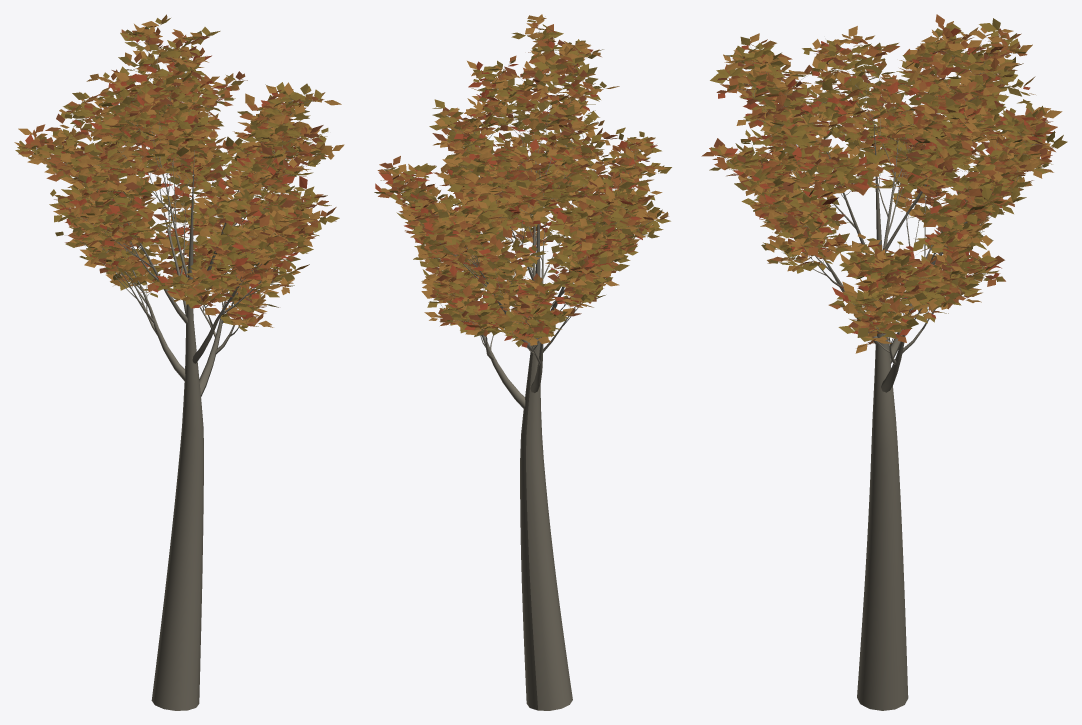
File: autumntree_02.glb
The picture shows the model from 3 angles, left to right: view 1: azimuth 30°, elevation 25°; view 2: azimuth 150°, elevation 25°; view 3: azimuth 270°, elevation 25°; orthographic projection. The views are drawn at different scales.
Visible parts, largest first — view 1: AutumnTree_02_leaf_clusters, AutumnTree_02_trunk_branches; view 2: AutumnTree_02_leaf_clusters, AutumnTree_02_trunk_branches; view 3: AutumnTree_02_leaf_clusters, AutumnTree_02_trunk_branches.
Boxes of the visible parts, x1=… form: AutumnTree_02_leaf_clusters: x1=14, y1=14, x2=344, y2=331; AutumnTree_02_trunk_branches: x1=27, y1=26, x2=325, y2=710; AutumnTree_02_leaf_clusters: x1=374, y1=14, x2=671, y2=347; AutumnTree_02_trunk_branches: x1=387, y1=26, x2=658, y2=710; AutumnTree_02_leaf_clusters: x1=701, y1=14, x2=1067, y2=353; AutumnTree_02_trunk_branches: x1=720, y1=34, x2=1045, y2=710.
Size of the model in its own units: 3.07 by 6.62 by 3.19.
